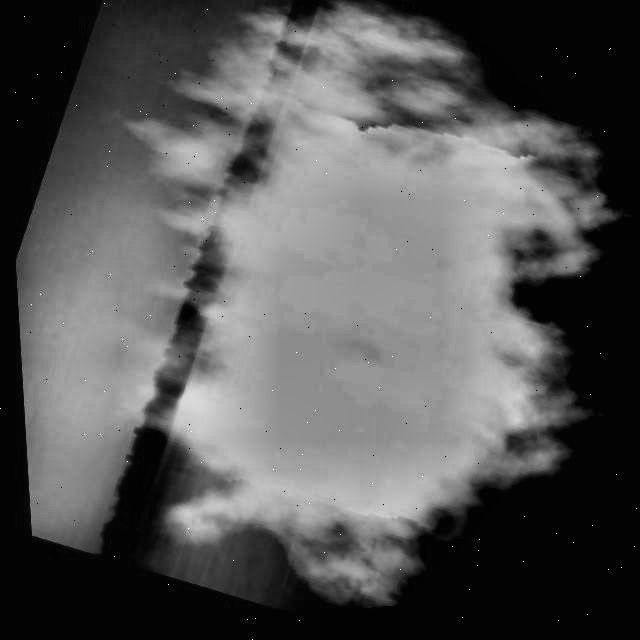Smoke: (16, 0, 640, 617)
